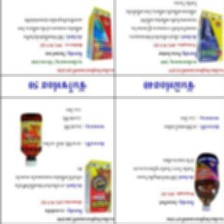carton: (84, 5, 115, 62), (82, 157, 113, 213), (194, 8, 224, 64)
insecticide: (193, 148, 221, 215), (18, 109, 45, 167)
